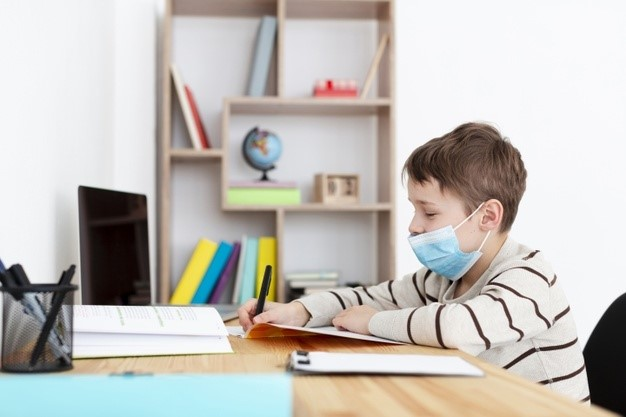face_with_mask: (403, 119, 524, 283)
